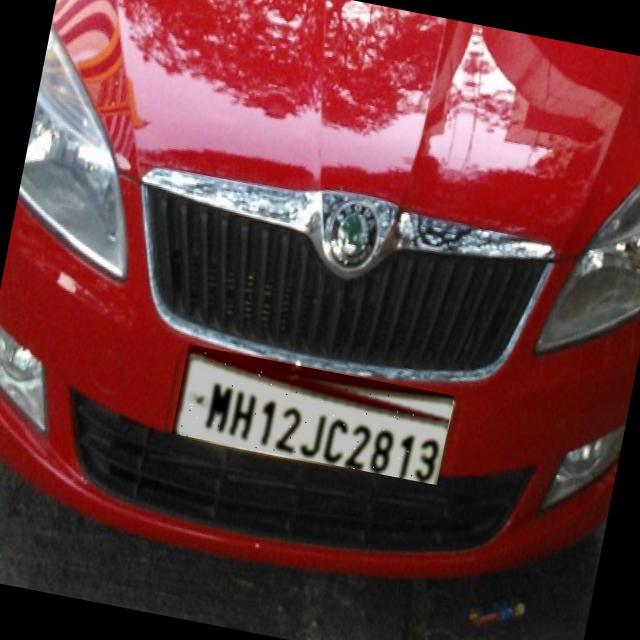Plate: (173, 346, 455, 487)
